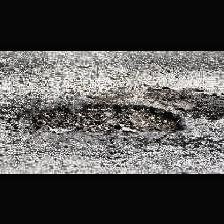pothole: (31, 100, 186, 134)
